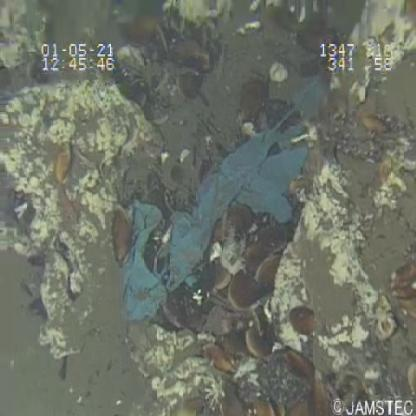Rác: (115, 72, 328, 330)
